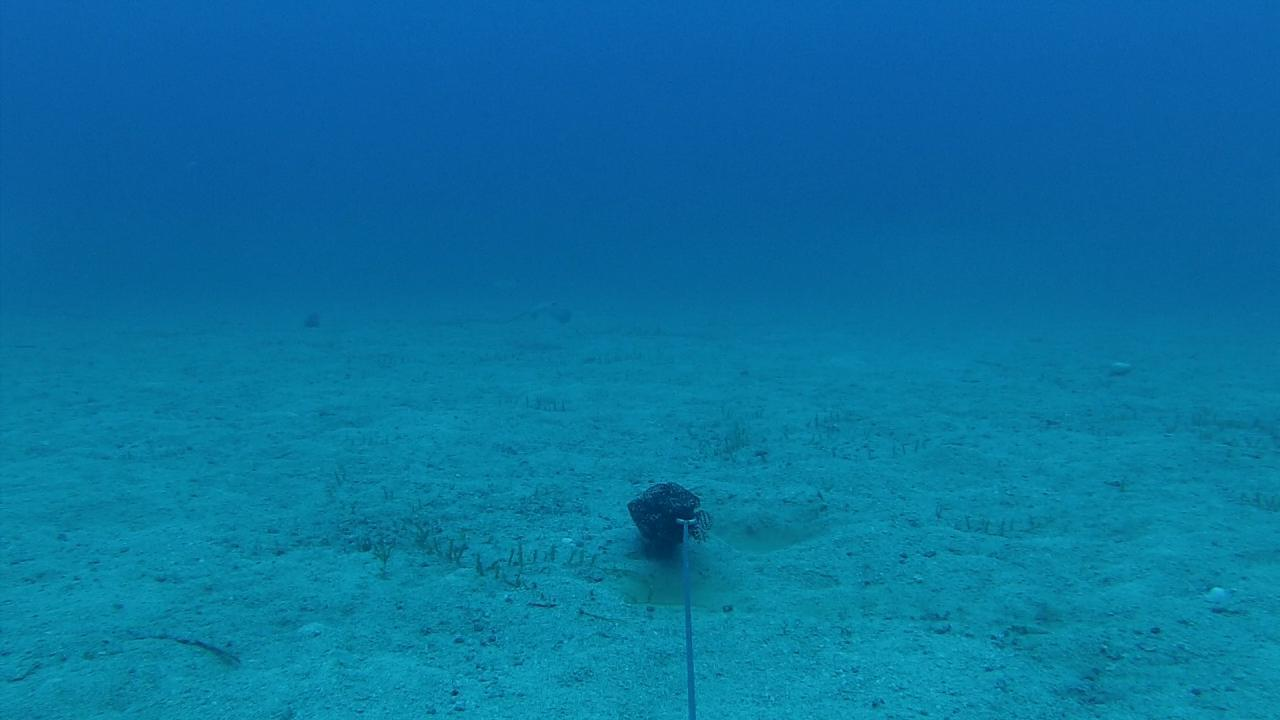dasyatis: (476, 300, 568, 328)
